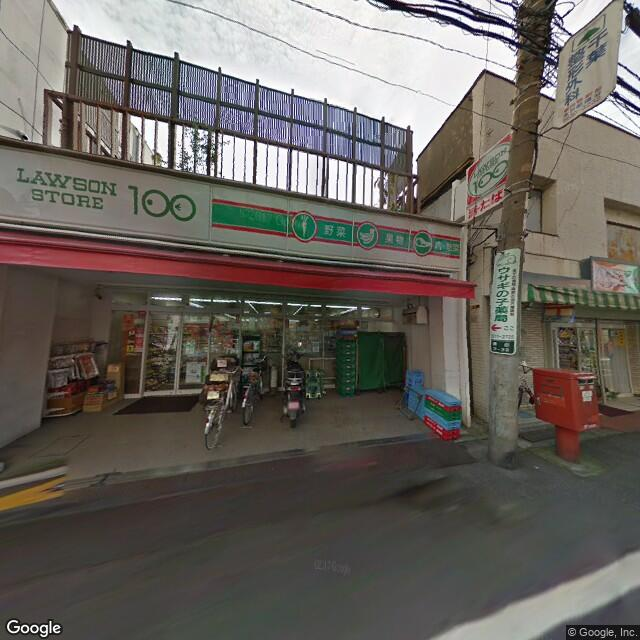lawson: (1, 144, 464, 275), (466, 132, 514, 203)
